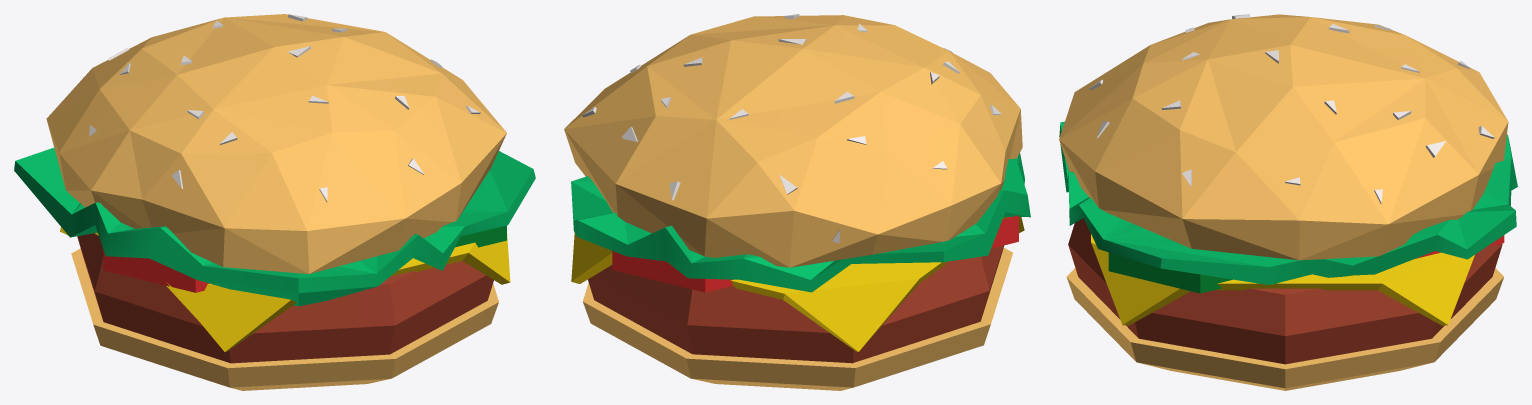
Rendered from burger_001.glb.
3 views of the same model, side by side, from view 1: azimuth 30°, elevation 25°; view 2: azimuth 150°, elevation 25°; view 3: azimuth 270°, elevation 25° (orthographic).
Parts seen in each view (by area): view 1: burger_001; view 2: burger_001; view 3: burger_001.
Part boxes in pixels (x1=…): burger_001: x1=14, y1=14, x2=535, y2=390; burger_001: x1=564, y1=14, x2=1030, y2=390; burger_001: x1=1059, y1=14, x2=1517, y2=390.
Bounding box in the file's own units: 0.1216 × 0.0805 × 0.1224.
1 material, 1 textured.
